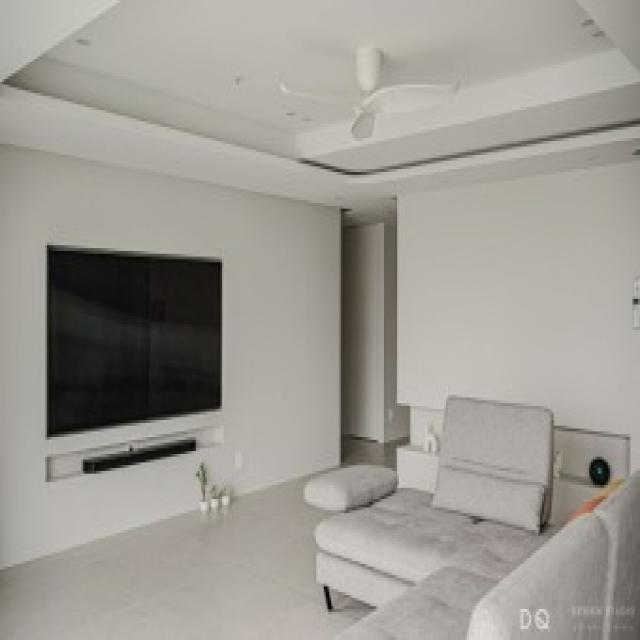Sofa: (303, 392, 640, 640)
tv: (47, 245, 223, 434)
